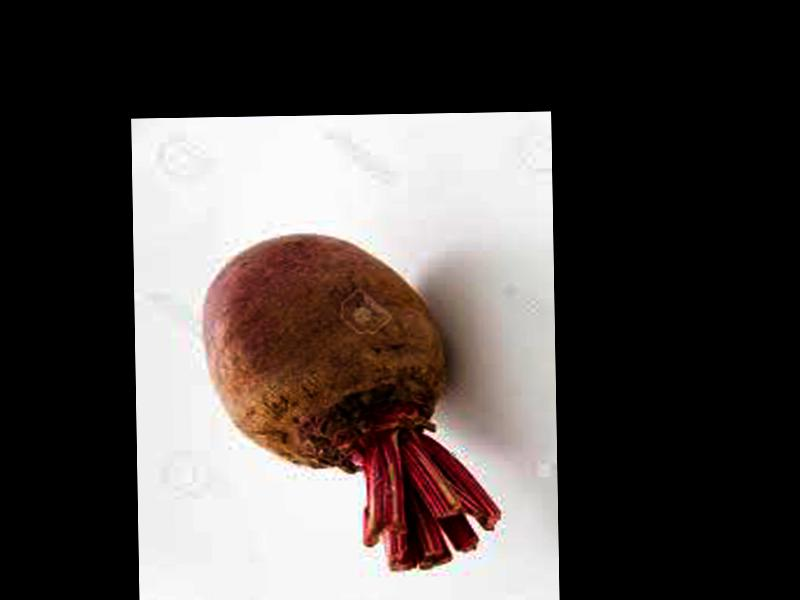Beet: (200, 229, 504, 573)
